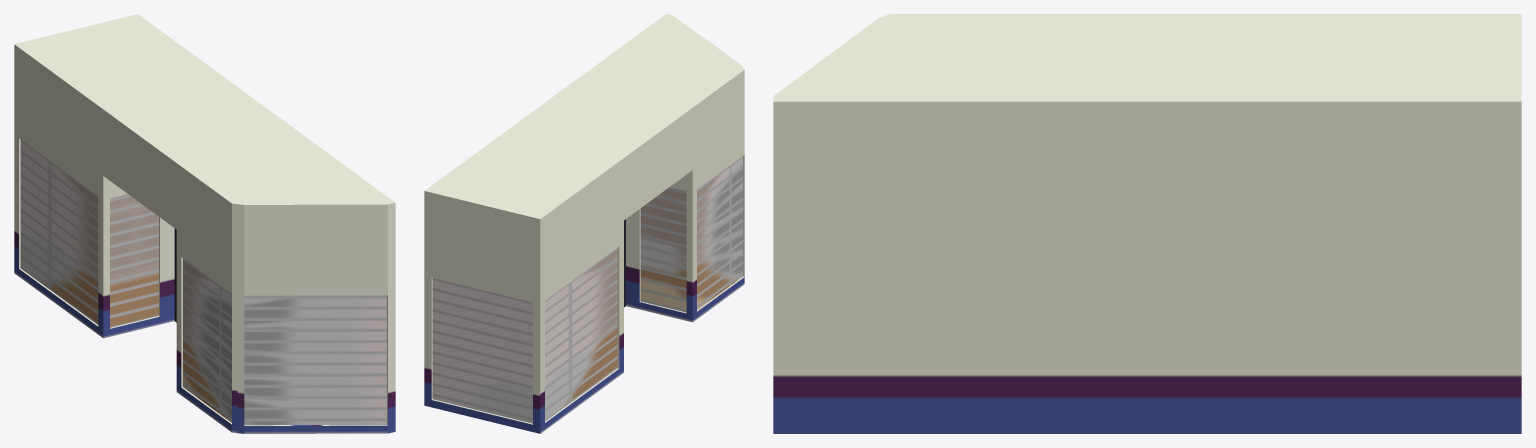
The model's file is StoreFront_RightSlant_Model.fbx.
The picture shows the model from 3 angles, left to right: view 1: azimuth 30°, elevation 25°; view 2: azimuth 150°, elevation 25°; view 3: azimuth 270°, elevation 25°; orthographic projection. The views are drawn at different scales.
Visible parts, largest first — view 1: pasted__pasted__pCube2; view 2: pasted__pasted__pCube2; view 3: pasted__pasted__pCube2.
Boxes of the visible parts, <box> form: pasted__pasted__pCube2: <box>14,14,395,433</box>; pasted__pasted__pCube2: <box>424,14,744,433</box>; pasted__pasted__pCube2: <box>773,14,1521,433</box>.
Size of the model in its own units: 3.94 by 6.98 by 14.24.
Materials: 1 (1 with a texture image).
